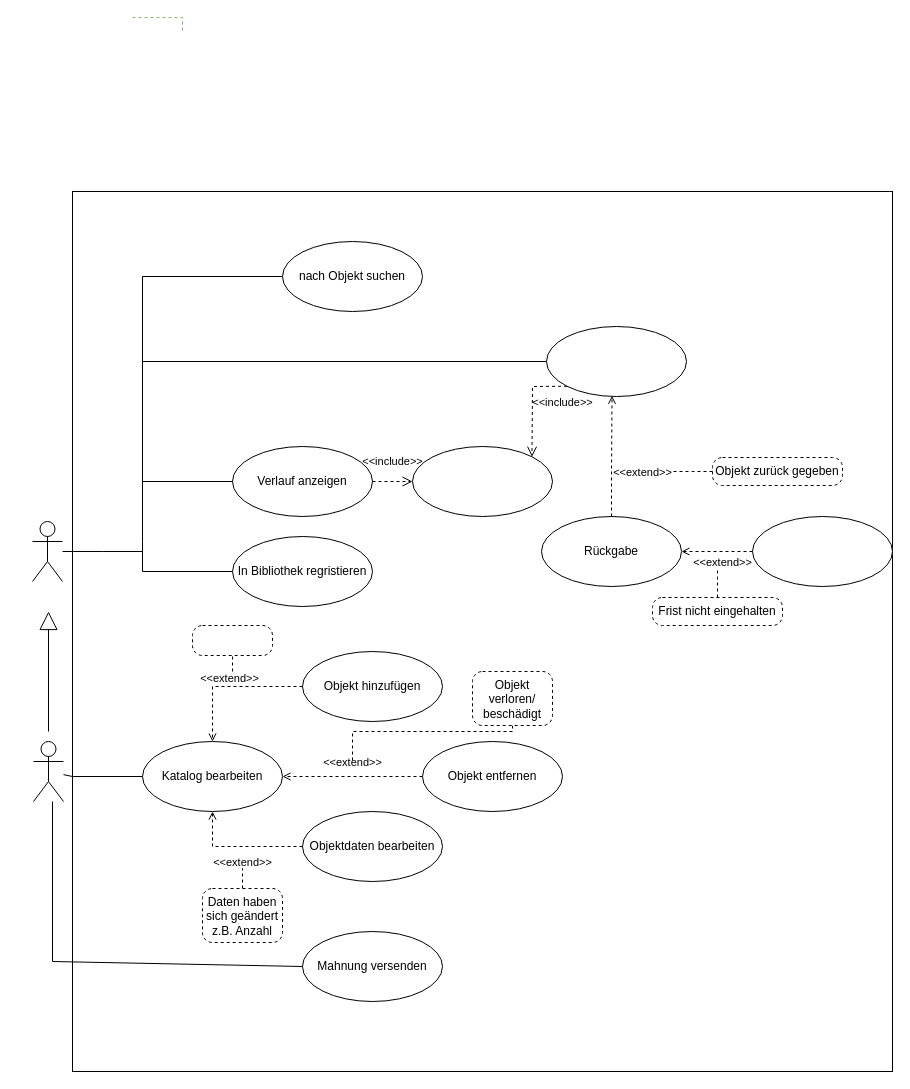
This 910x1089 diagram has some shape labels left out. The shapes that lost their labels are listed below. From the top down, each one's centre as x and y in pixels, then its label:
At (616,361): "Objekt aus/verleihen".
At (482,481): "in Bibliothek angemeldet (regristiert)".
At (47,551): "Leser".
At (822,551): "Überziehungsgebühr".
At (232,640): "neues Objekt".
At (48,771): "Bibliothekar".
